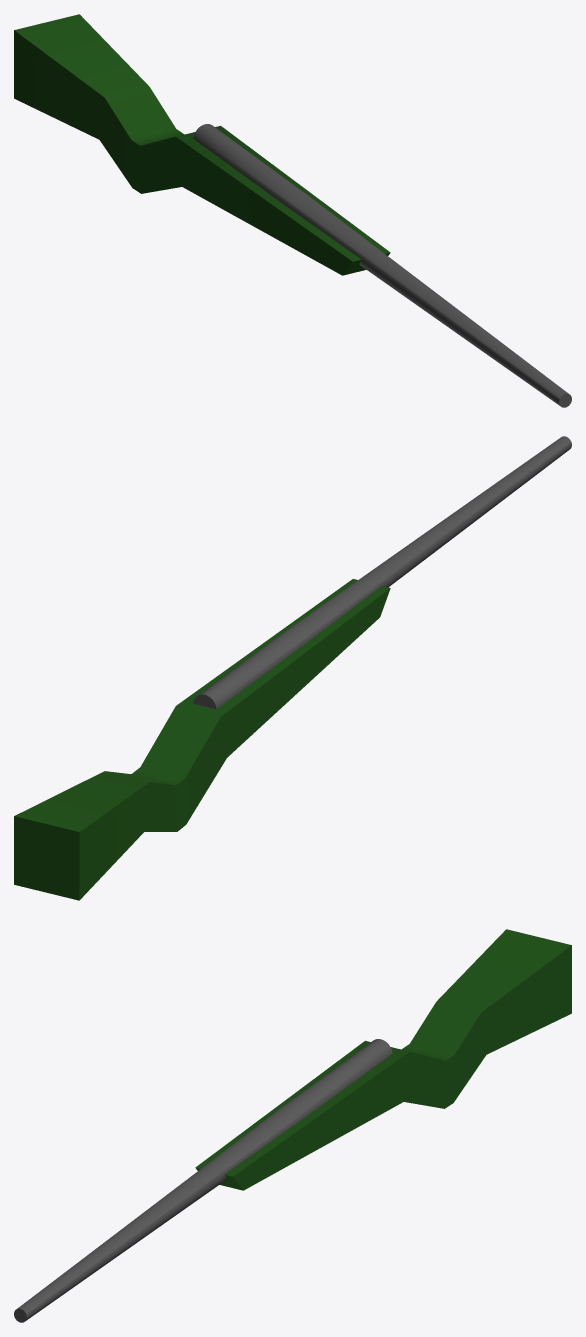
Rendered from Sniper.fbx.
3 views of the same model, one above another, from view 1: azimuth 30°, elevation 25°; view 2: azimuth 150°, elevation 25°; view 3: azimuth 330°, elevation 25° (orthographic).
Parts seen in each view (by area): view 1: Cube; view 2: Cube; view 3: Cube.
Boxes of the visible parts, x1,y1,x2,y2 form: Cube: (14,14,571,407); Cube: (14,436,571,900); Cube: (14,929,571,1322).
Size of the model in its own units: 187 by 260 by 2571.
1 material, 1 textured.
